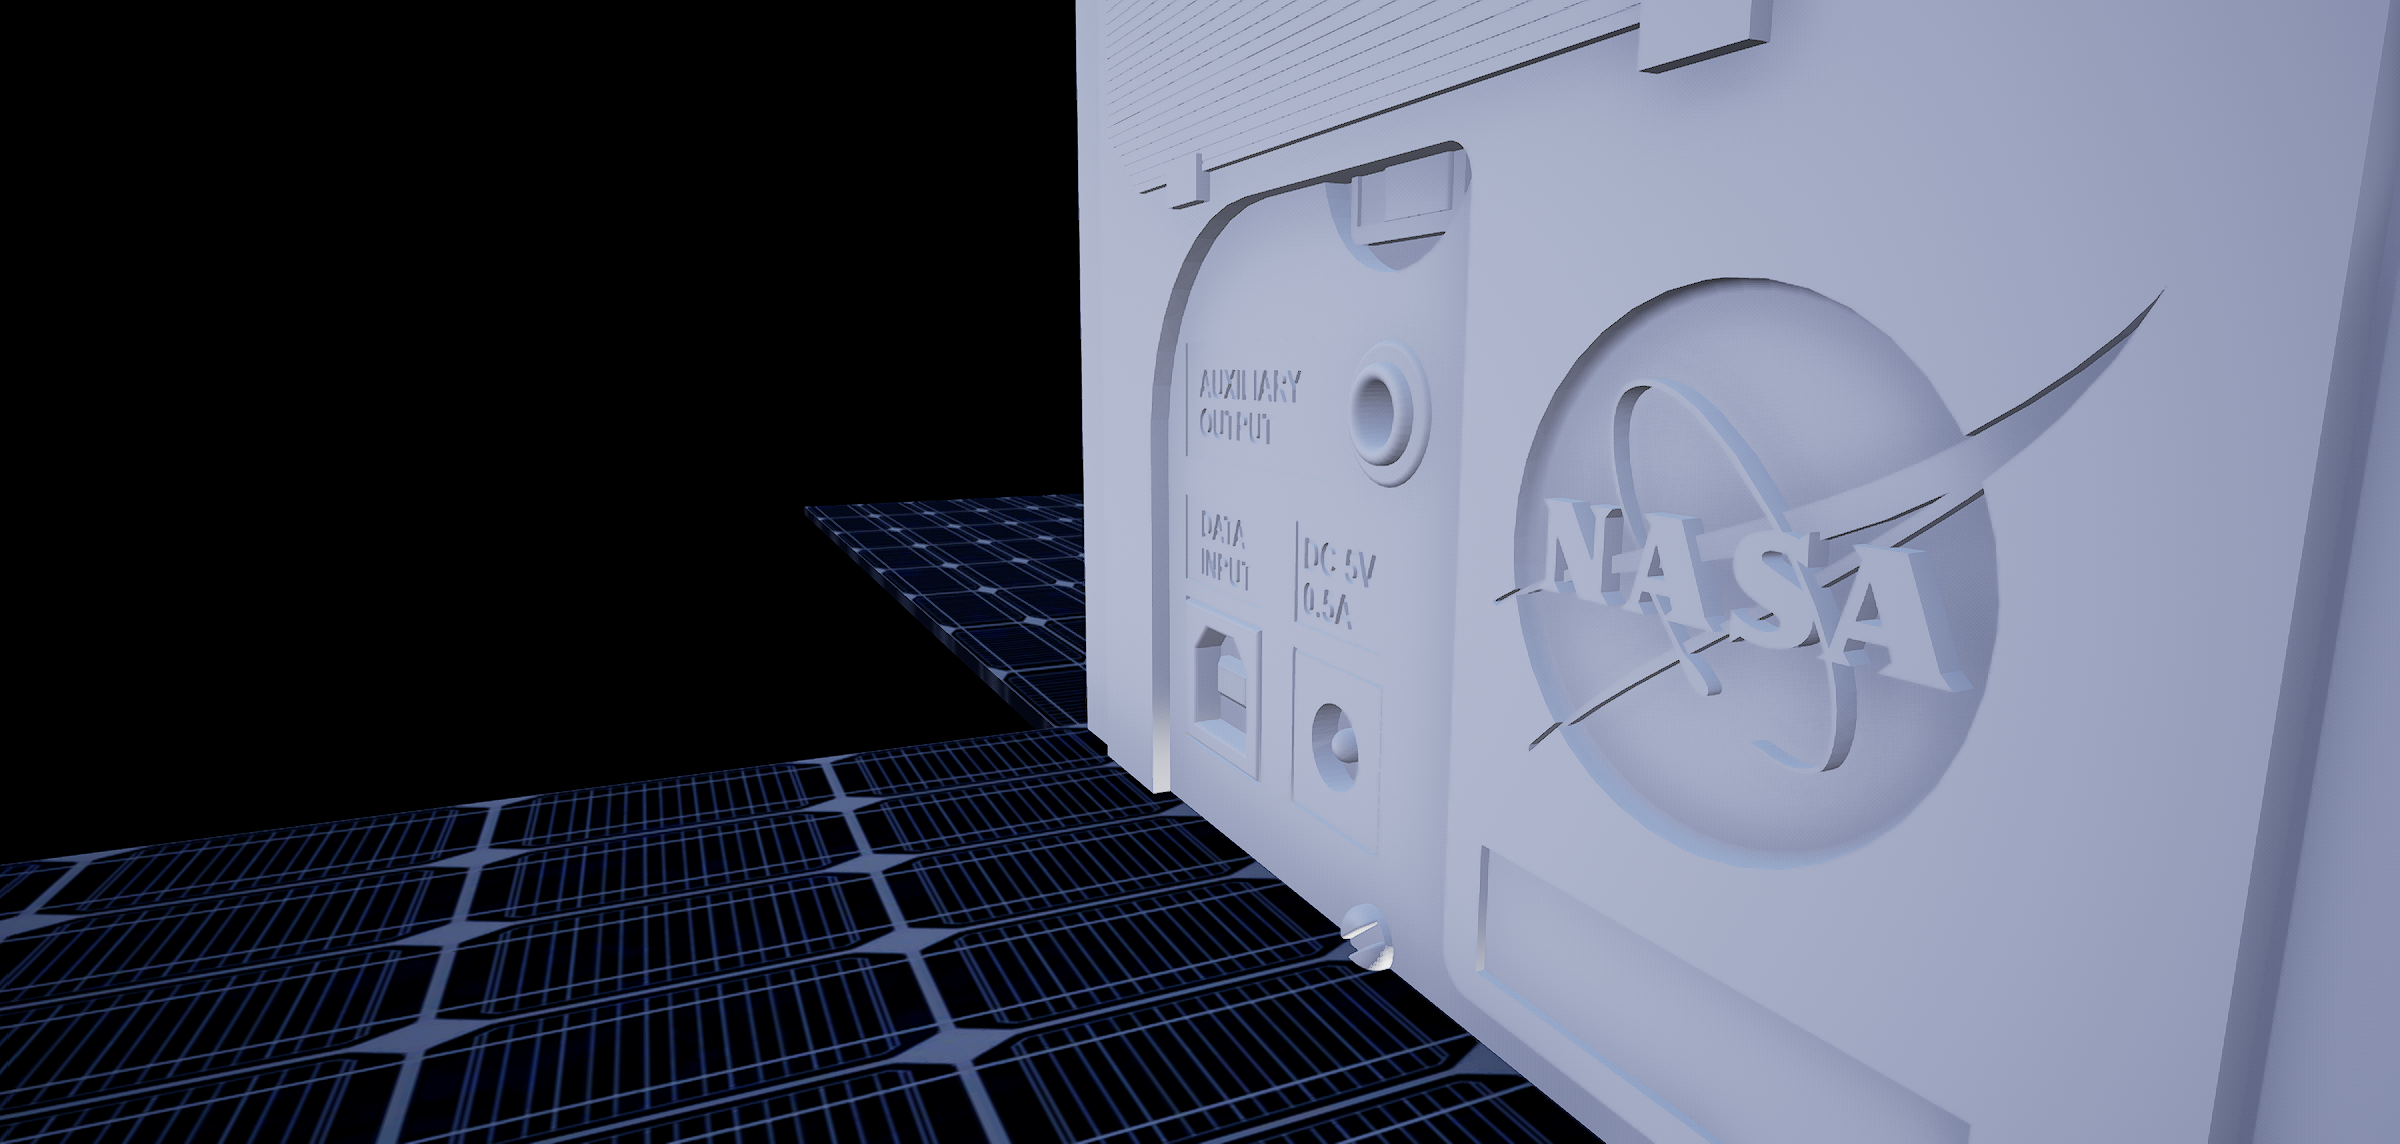aux: (1335, 332, 1442, 490)
dc: (1301, 688, 1362, 801)
usb: (1194, 619, 1254, 757)
